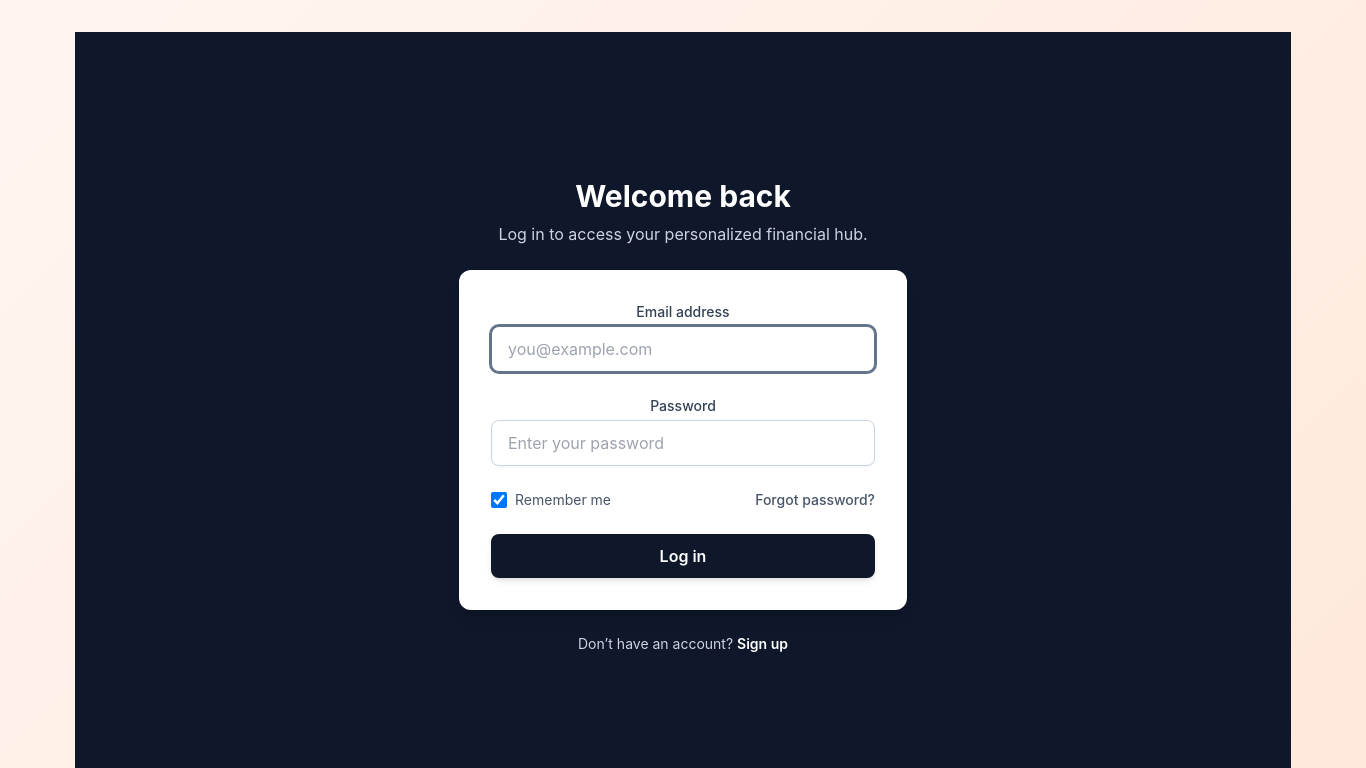
Test: LoginPage › shows validation errors when submitting empty form
The width and height of the screenshot is (1366, 768).
Click the button "Log in": (683, 556) [491,534,875,578]
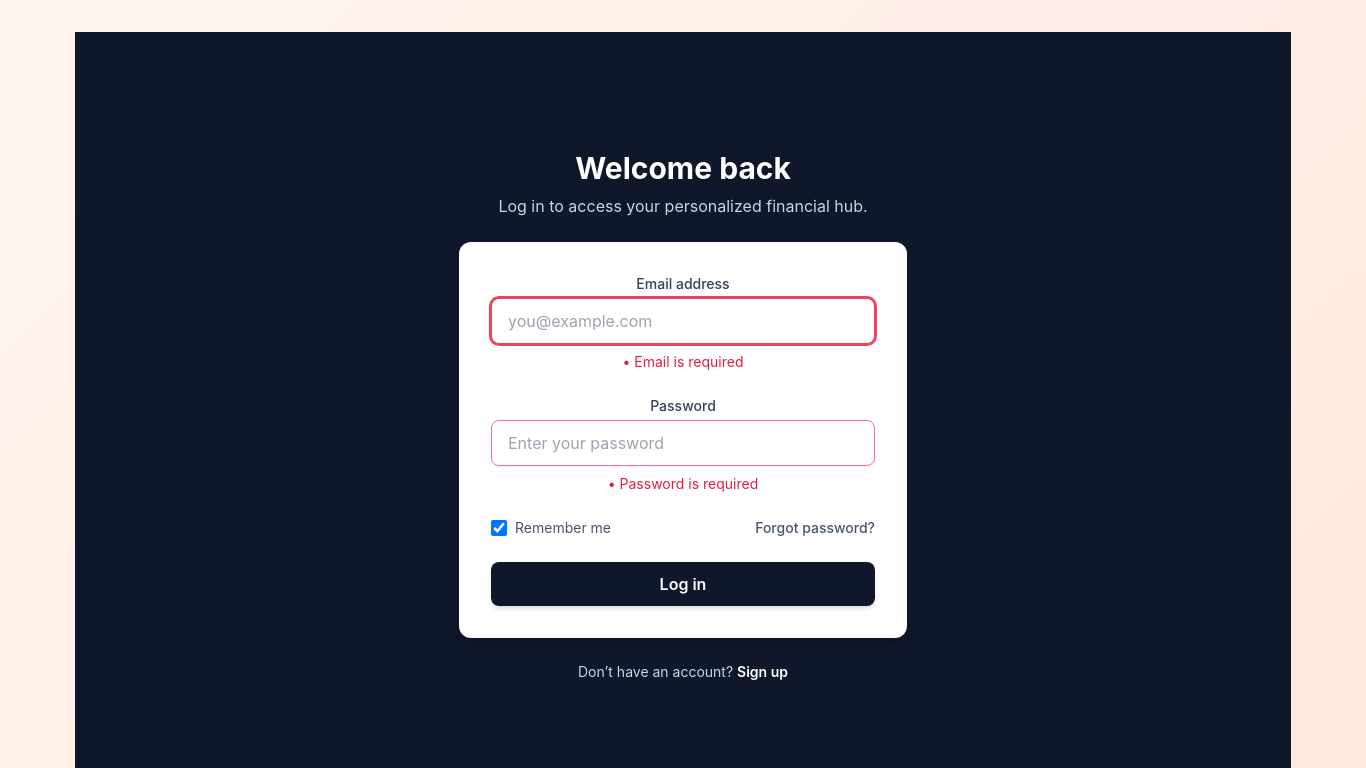
Now the text "• Email is required" is shown, box [622,353,744,370]
Now the text "• Password is required" is shown, box [608,475,758,492]
